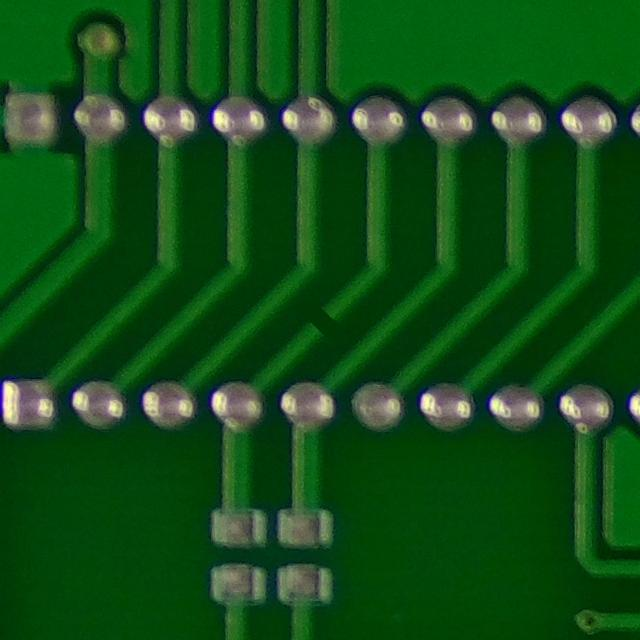open_circuit: (299, 302, 342, 339)
